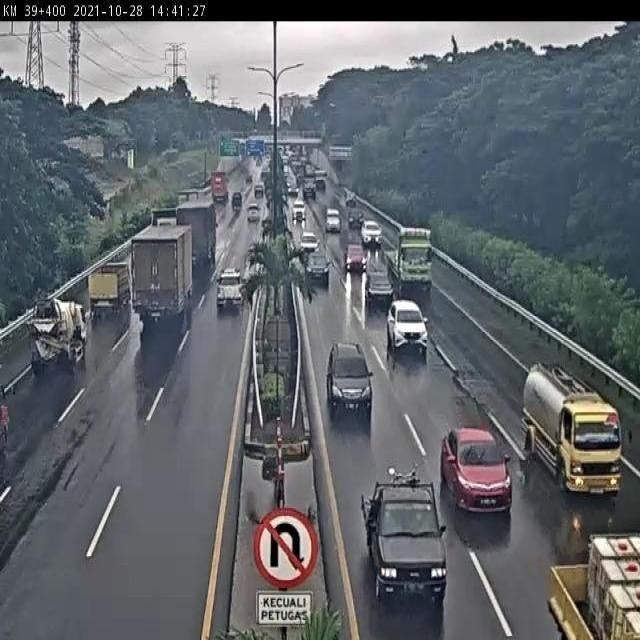big truck: (138, 205, 179, 248)
car: (359, 466, 450, 606), (439, 425, 514, 516), (325, 341, 373, 416), (387, 301, 428, 355), (217, 267, 246, 308), (364, 272, 395, 309), (304, 252, 330, 284), (343, 244, 366, 273)
mid truck: (130, 224, 194, 317), (380, 219, 434, 293), (175, 203, 218, 264)
small truck: (87, 261, 131, 315)
truck-m-: (520, 361, 623, 499), (29, 297, 89, 371)
